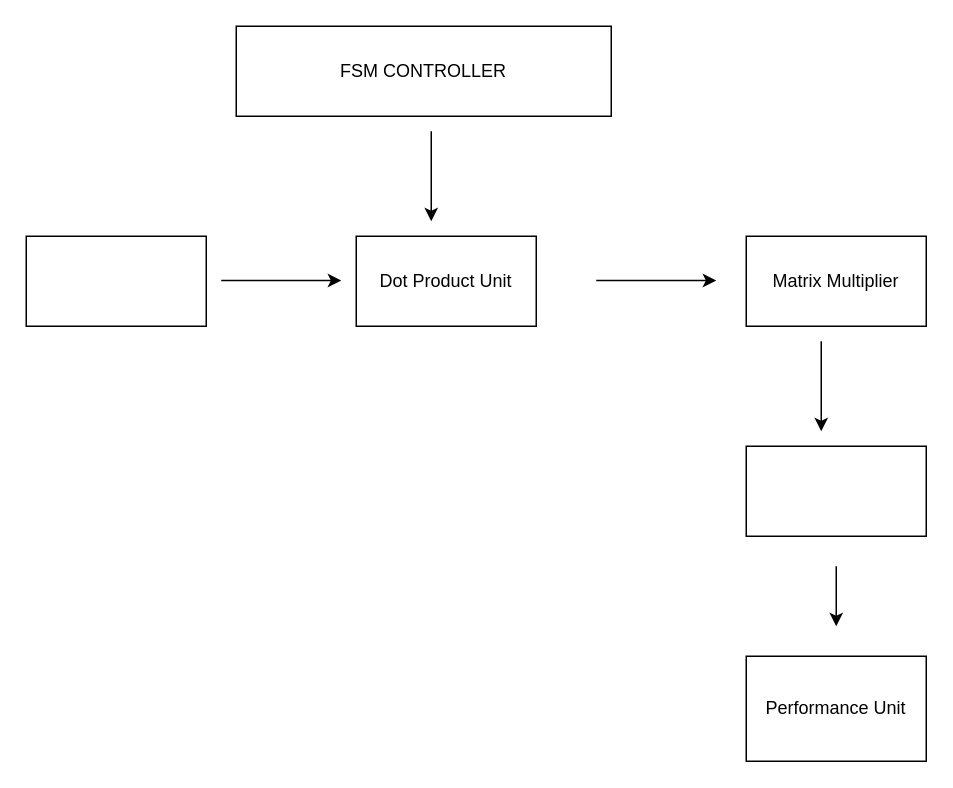
Some shapes in this 953 by 788 pixel diagram are drawn without their labels. Each missing label, with the centre of its shape:
SRAM Buffer: the point at 115,280
Systolic Array: the point at 835,490
